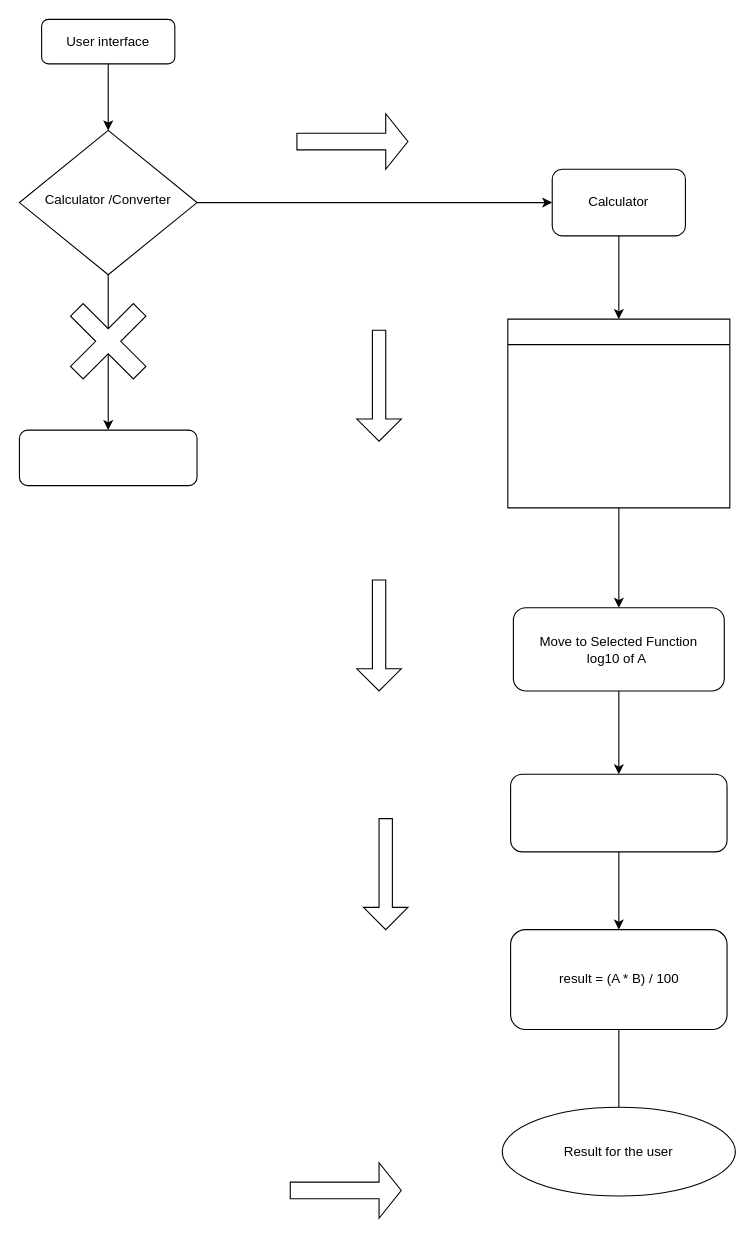
The diagram is 755 pixels wide and 1238 high, and some of its shapes have lost their labels. Here are the shapes that lost their labels. From the top down, the centre of each, then its label:
At point (618, 413): "Function of Calculator 15.log10(A)".
At point (107, 457): "Converter".
At point (618, 812): "Enter the values for A".
